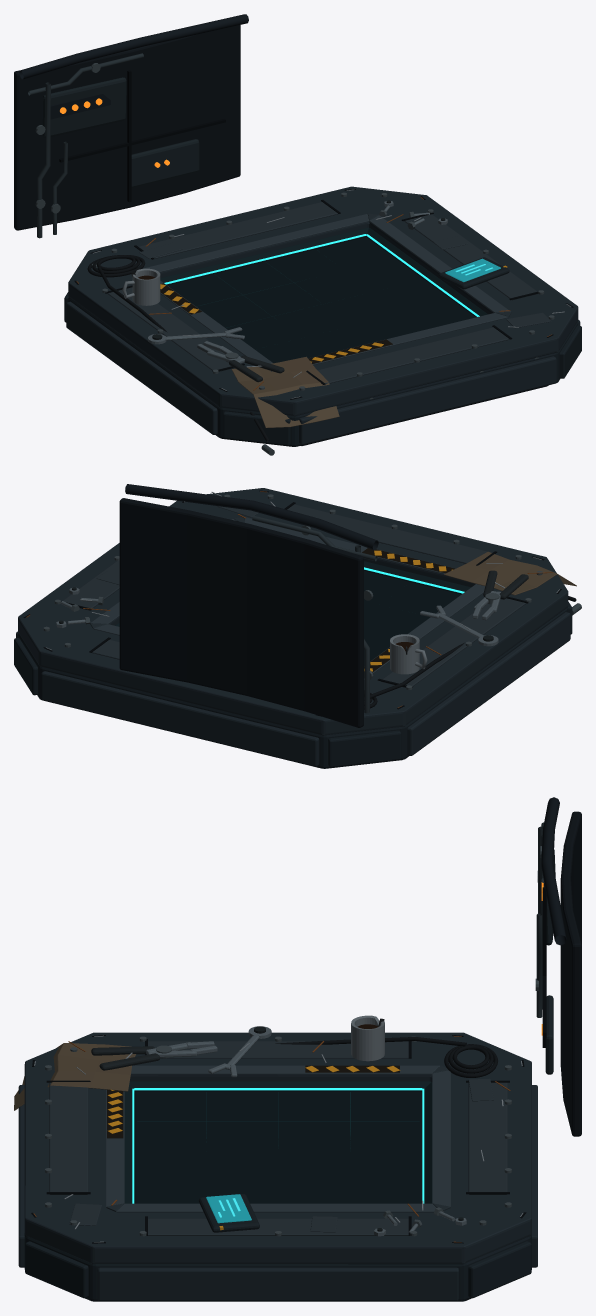
The model's file is salvage_table.glb.
3 views of the same model, one above another, from view 1: azimuth 30°, elevation 25°; view 2: azimuth 150°, elevation 25°; view 3: azimuth 270°, elevation 25° (orthographic). The views are drawn at different scales.
Parts seen in each view (by area): view 1: table_top_octagonal_frame, cockpit_panel_curved, well_floor, side_armor_panel_5, side_armor_panel_3, dirty_rag, top_plate_front, top_plate_back, well_sloped_transition, cockpit_inset_upper, table_octagonal_core, cockpit_panel_upper_rib (+18 smaller); view 2: cockpit_panel_curved, table_top_octagonal_frame, side_armor_panel_1, side_armor_panel_3, well_floor, table_octagonal_core, cockpit_panel_upper_rib, top_plate_front, top_plate_left, dirty_rag, side_armor_panel_2, mug_body (+9 smaller); view 3: table_top_octagonal_frame, well_floor, side_armor_panel_7, cockpit_panel_curved, well_sloped_transition, top_plate_front, top_plate_back, top_plate_right, table_octagonal_core, dirty_rag, top_plate_left, well_collar_right (+15 smaller).
Part boxes in pixels (bbox=[...]): table_top_octagonal_frame: bbox=[68, 186, 578, 416]; cockpit_panel_curved: bbox=[14, 25, 240, 230]; well_floor: bbox=[167, 237, 475, 363]; side_armor_panel_5: bbox=[299, 356, 556, 444]; side_armor_panel_3: bbox=[66, 301, 217, 434]; dirty_rag: bbox=[231, 356, 339, 427]; top_plate_front: bbox=[318, 327, 509, 383]; top_plate_back: bbox=[138, 202, 337, 258]; well_sloped_transition: bbox=[160, 227, 487, 317]; cockpit_inset_upper: bbox=[42, 77, 126, 137]; table_octagonal_core: bbox=[68, 297, 577, 446]; cockpit_panel_upper_rib: bbox=[19, 14, 248, 79]; cockpit_panel_curved: bbox=[119, 498, 363, 727]; table_top_octagonal_frame: bbox=[18, 488, 568, 735]; side_armor_panel_1: bbox=[41, 671, 319, 766]; side_armor_panel_3: bbox=[407, 612, 570, 755]; well_floor: bbox=[364, 571, 461, 665]; table_octagonal_core: bbox=[18, 607, 568, 768]; cockpit_panel_upper_rib: bbox=[125, 484, 378, 549]; top_plate_front: bbox=[287, 504, 492, 563]; top_plate_left: bbox=[381, 598, 525, 687]; dirty_rag: bbox=[444, 551, 576, 595]; side_armor_panel_2: bbox=[328, 730, 401, 767]; mug_body: bbox=[390, 634, 419, 674]; table_top_octagonal_frame: bbox=[24, 1032, 531, 1264]; well_floor: bbox=[134, 1091, 422, 1203]; side_armor_panel_7: bbox=[97, 1267, 458, 1300]; cockpit_panel_curved: bbox=[560, 811, 581, 1136]; well_sloped_transition: bbox=[124, 1081, 432, 1203]; top_plate_front: bbox=[49, 1082, 88, 1194]; top_plate_back: bbox=[468, 1082, 507, 1194]; top_plate_right: bbox=[147, 1218, 409, 1235]; table_octagonal_core: bbox=[24, 1233, 531, 1301]; dirty_rag: bbox=[14, 1043, 135, 1110]; top_plate_left: bbox=[148, 1041, 408, 1058]; well_collar_right: bbox=[116, 1203, 436, 1212].
Size of the model in its own units: 1.56 by 0.9655 by 1.68.
